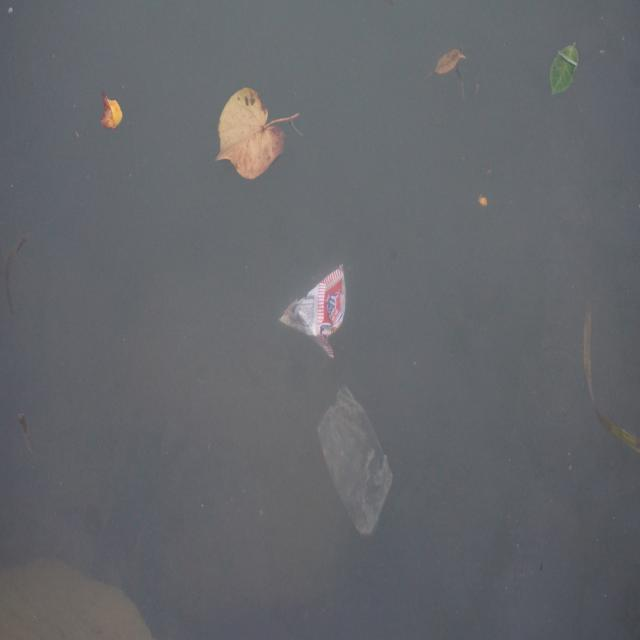Bungkus Makanan: (282, 255, 351, 363)
Kantong Plastik: (314, 382, 397, 542)
